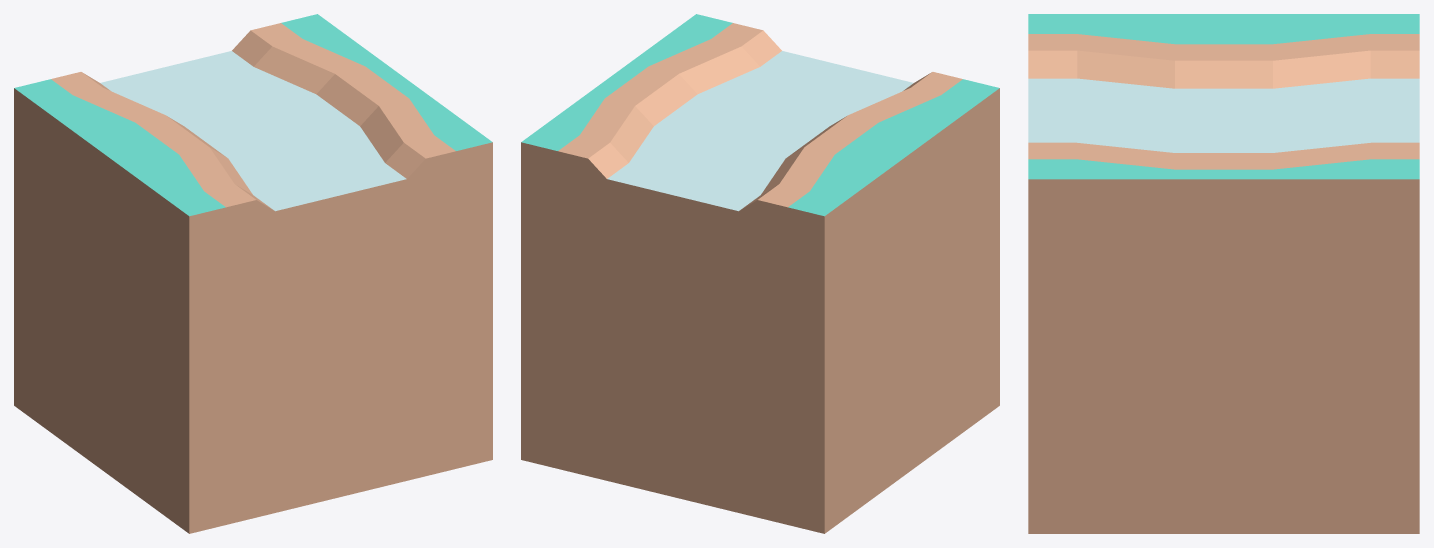
The model's file is blockRiverStraight.fbx.
The picture shows the model from 3 angles, left to right: view 1: azimuth 30°, elevation 25°; view 2: azimuth 150°, elevation 25°; view 3: azimuth 270°, elevation 25°; orthographic projection. The views are drawn at different scales.
Parts seen in each view (by area): view 1: blockRiverStraight; view 2: blockRiverStraight; view 3: blockRiverStraight.
Boxes of the visible parts, x1,y1,x2,y2 form: blockRiverStraight: (14,14,492,533); blockRiverStraight: (521,14,999,533); blockRiverStraight: (1028,14,1419,533).
Bounding box in the file's own units: 100 × 100 × 100.
